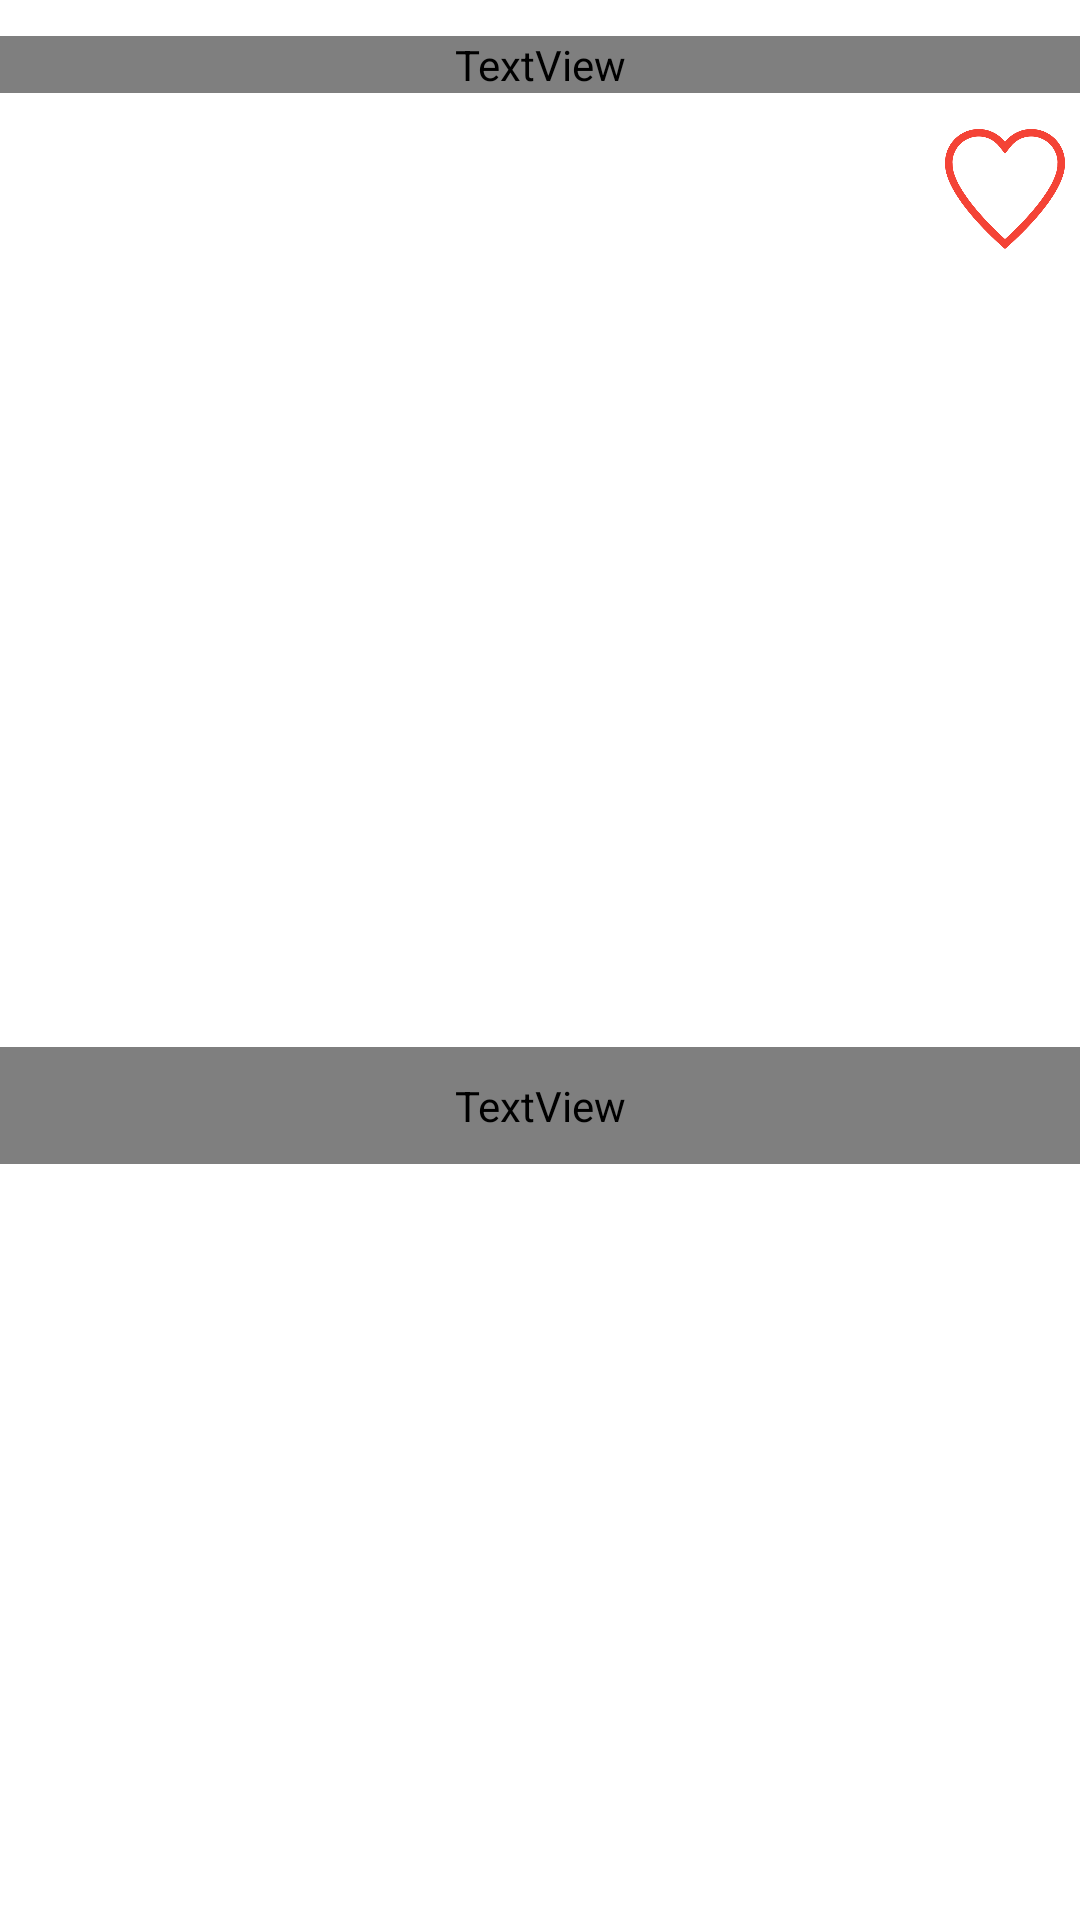

Locate icon controls on the screen. Image size 1080 x 1920, boxes as bbox=(x1, y1, x2, y2).
heart border: bbox=(945, 129, 1065, 249)
